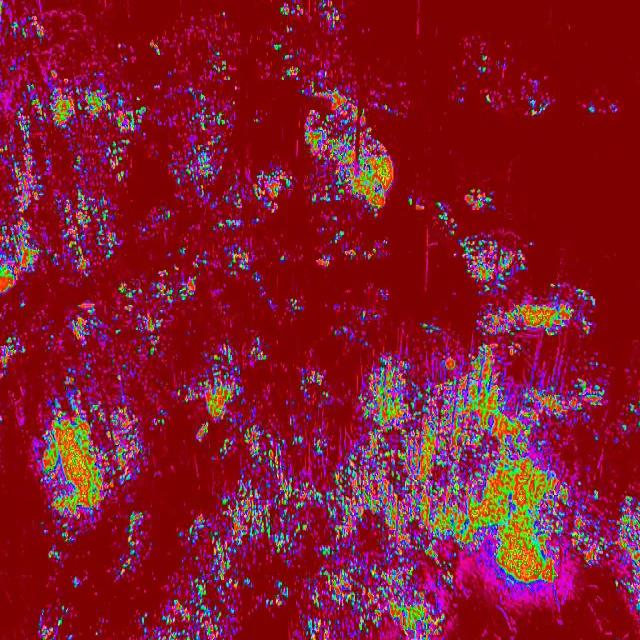fire: (0, 0, 394, 380), (178, 380, 568, 640), (27, 379, 153, 532), (421, 288, 598, 382), (432, 187, 534, 288), (568, 482, 640, 616), (462, 54, 552, 118), (32, 600, 92, 640), (118, 530, 152, 580), (568, 380, 604, 424), (140, 599, 178, 640), (585, 98, 618, 120), (45, 546, 64, 562), (70, 574, 82, 588)
